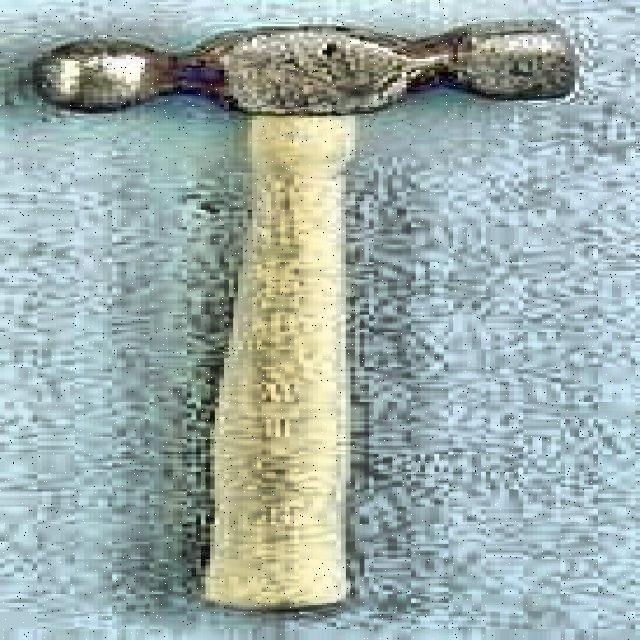hammer: (36, 18, 580, 614)
